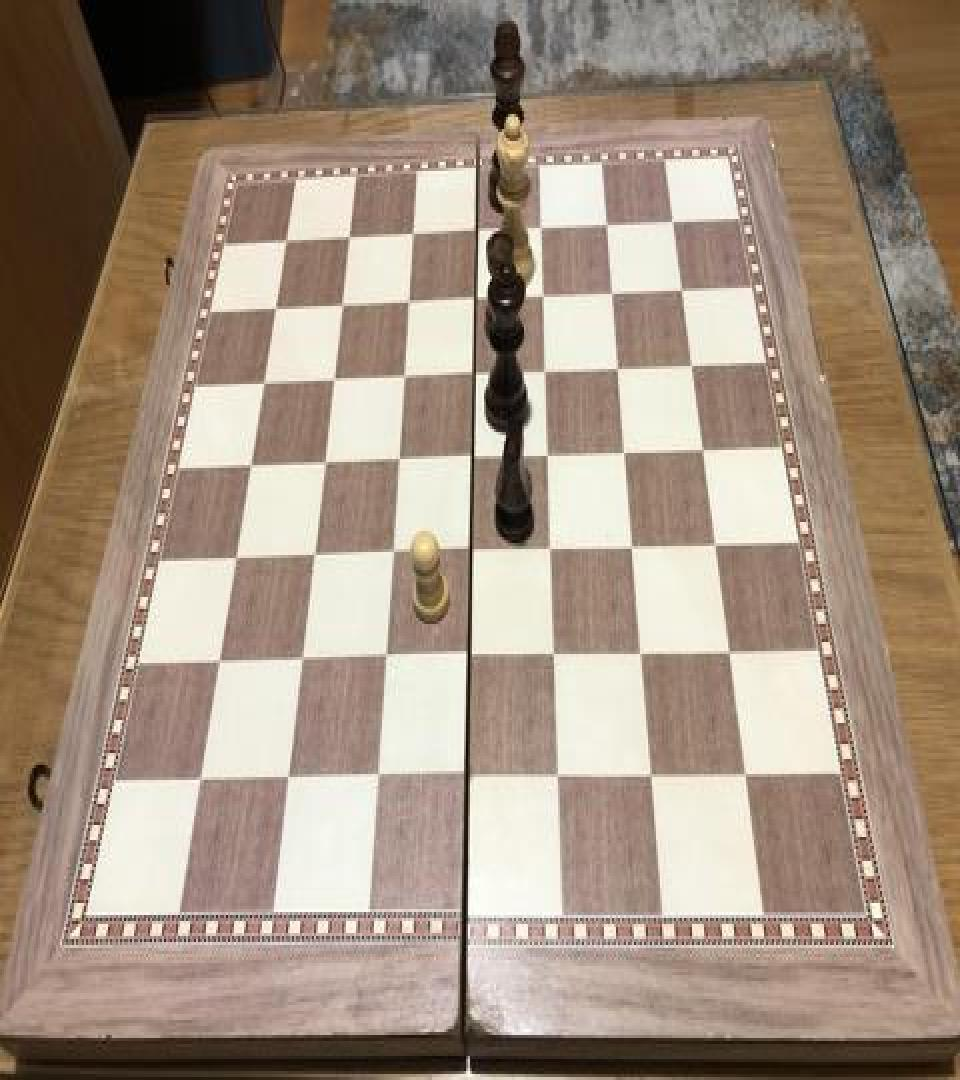xcorner: (630, 637, 654, 674), (457, 640, 481, 677), (206, 646, 230, 683), (188, 763, 212, 800), (595, 208, 619, 244), (529, 213, 553, 249), (464, 216, 488, 252), (399, 220, 423, 256), (335, 224, 359, 260), (272, 226, 296, 262), (670, 273, 694, 309), (600, 278, 624, 314), (531, 280, 555, 316), (463, 284, 487, 320), (395, 288, 419, 324), (328, 291, 352, 327), (262, 294, 286, 330), (680, 350, 704, 386), (606, 352, 630, 388), (534, 356, 558, 392), (461, 358, 485, 394), (320, 366, 344, 402), (250, 369, 274, 405), (691, 434, 715, 470), (613, 436, 637, 472), (536, 440, 560, 476), (460, 442, 484, 478), (311, 448, 335, 484), (237, 452, 261, 488), (704, 528, 728, 564), (621, 531, 645, 567), (539, 532, 563, 568), (459, 536, 483, 572), (379, 538, 403, 574), (300, 540, 324, 576), (223, 543, 247, 579), (718, 634, 742, 670), (543, 639, 567, 675), (372, 644, 396, 680), (289, 645, 313, 681), (734, 756, 758, 792), (640, 758, 664, 794), (547, 759, 571, 795), (455, 760, 479, 796), (365, 762, 389, 798), (276, 762, 300, 798), (661, 206, 685, 241), (390, 362, 414, 397), (385, 446, 409, 481)
